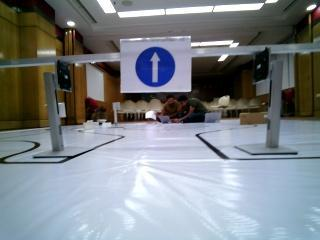straight: (119, 40, 192, 90)
